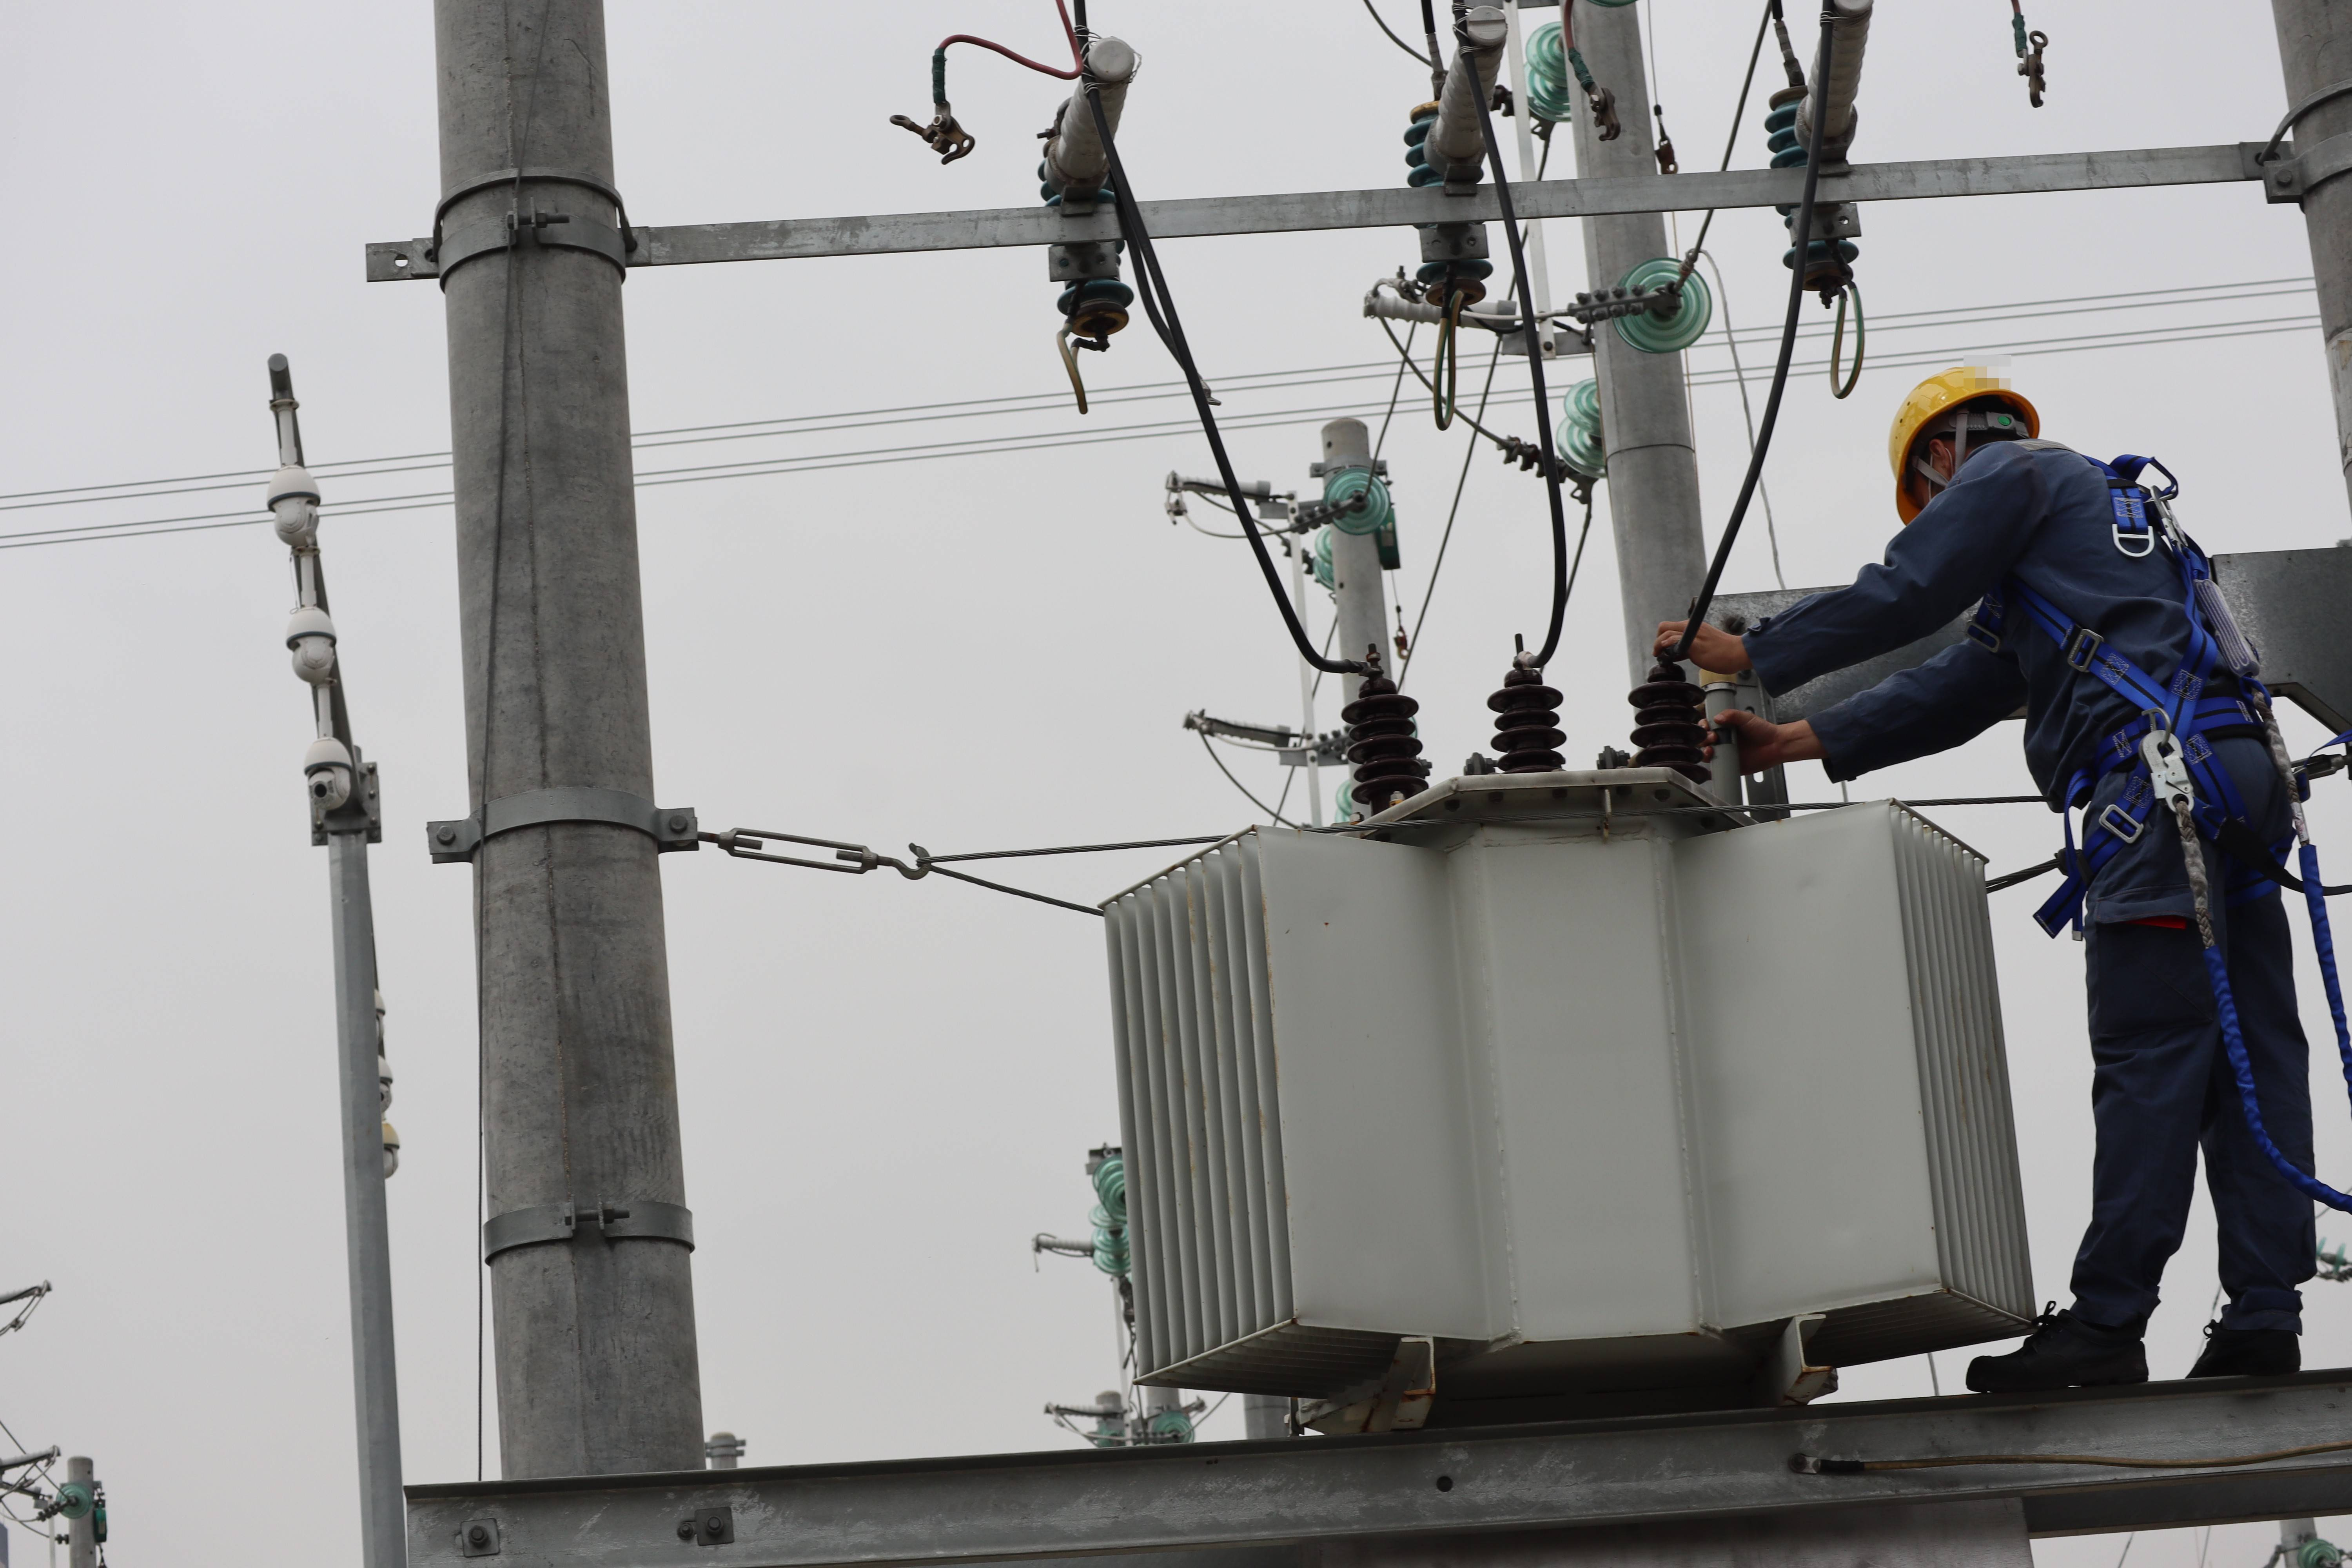downsuit: (2060, 770, 2345, 1325)
upsuit: (1745, 438, 2273, 766)
